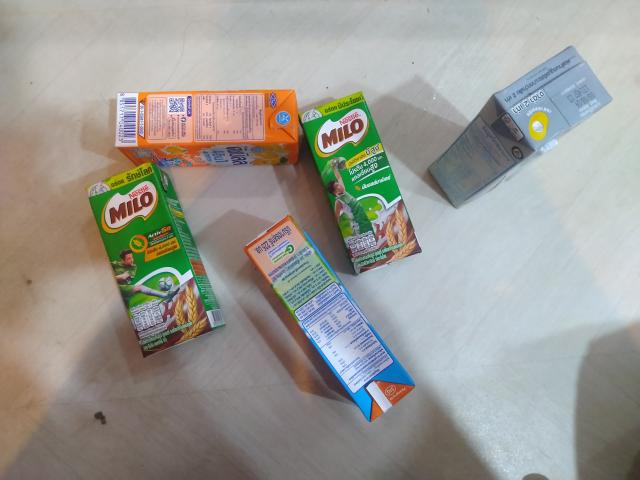drink_box: (228, 198, 434, 443), (419, 21, 638, 238), (79, 155, 229, 367), (297, 84, 434, 292), (106, 68, 304, 174)
